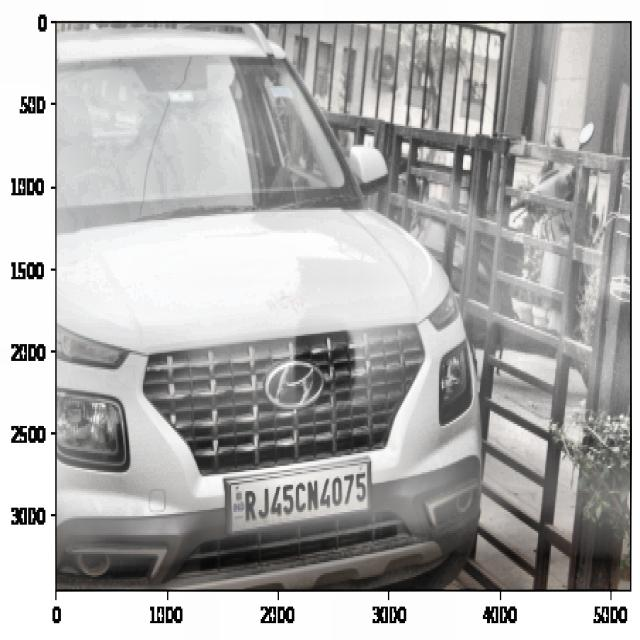license_plate: (239, 466, 370, 526)
